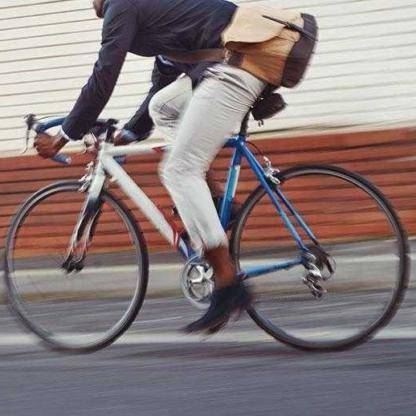Bicycle: (0, 82, 414, 397)
